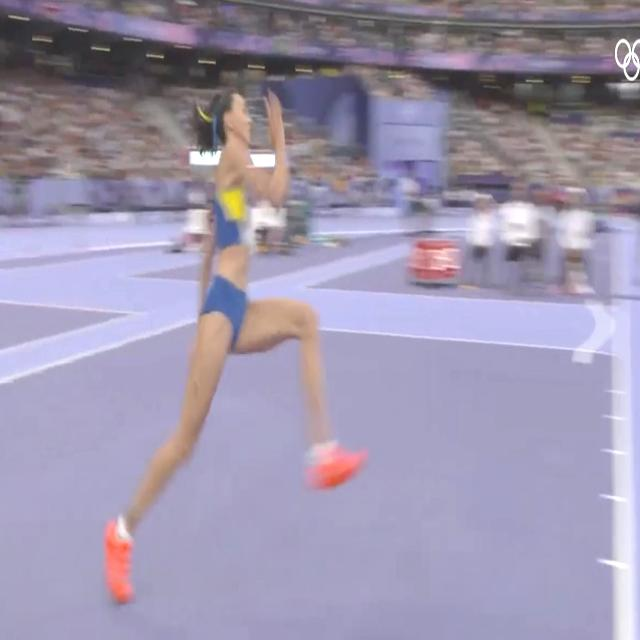run: (102, 87, 368, 607)
